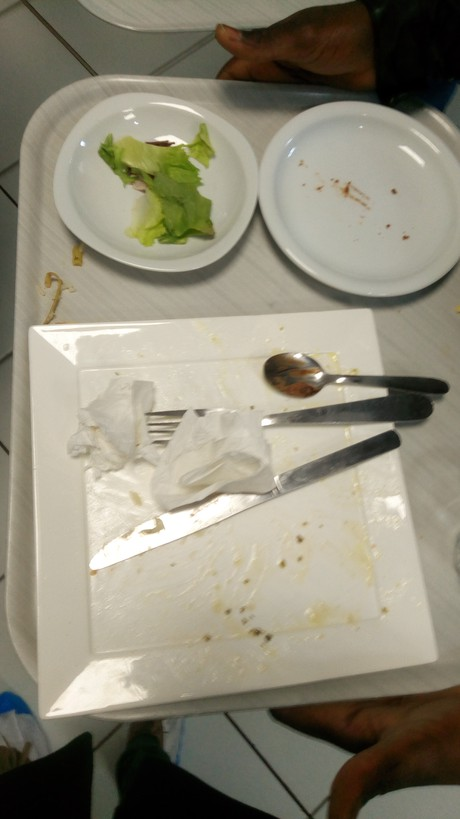orga: (95, 127, 220, 246)
trash: (77, 372, 176, 525), (174, 407, 271, 498)
